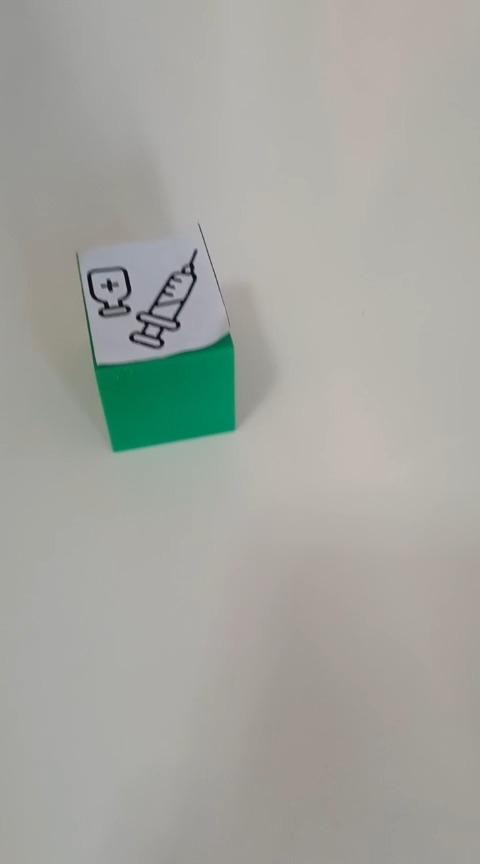antiseptic cream: (73, 220, 237, 452)
